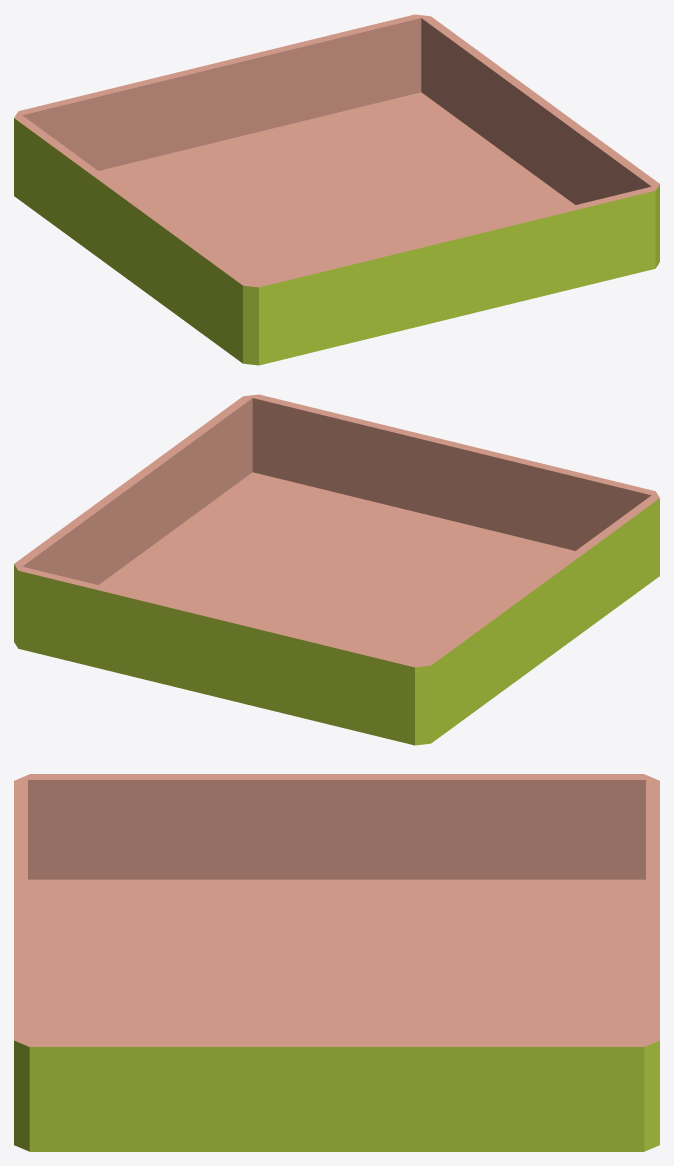
Rendered from watermelon box.fbx.
3 views of the same model, one above another, from view 1: azimuth 30°, elevation 25°; view 2: azimuth 150°, elevation 25°; view 3: azimuth 270°, elevation 25° (orthographic). The views are drawn at different scales.
Parts seen in each view (by area): view 1: Cube; view 2: Cube; view 3: Cube.
Boxes of the visible parts, left/top/right/bottom form: Cube: left=14, top=14, right=659, bottom=365; Cube: left=14, top=394, right=659, bottom=745; Cube: left=14, top=774, right=659, bottom=1151.
Size of the model in its own units: 1018 by 182 by 1018.
